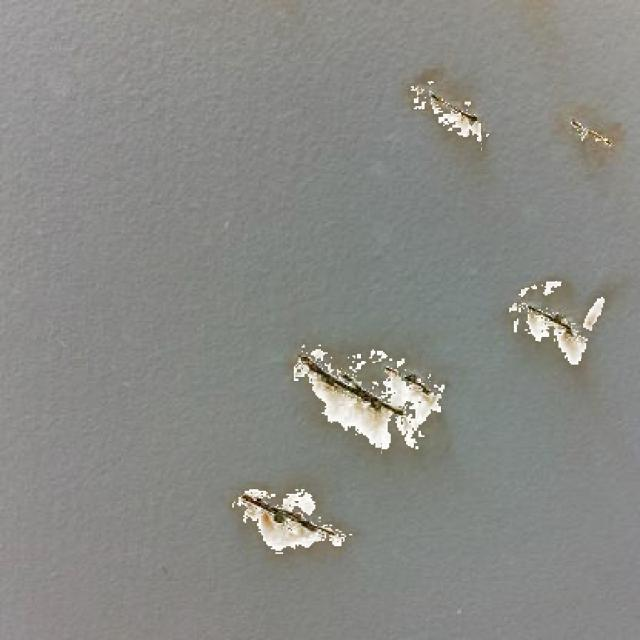crack: (301, 358, 401, 413), (246, 494, 331, 531), (434, 89, 477, 123), (569, 120, 612, 146), (530, 307, 572, 330)
